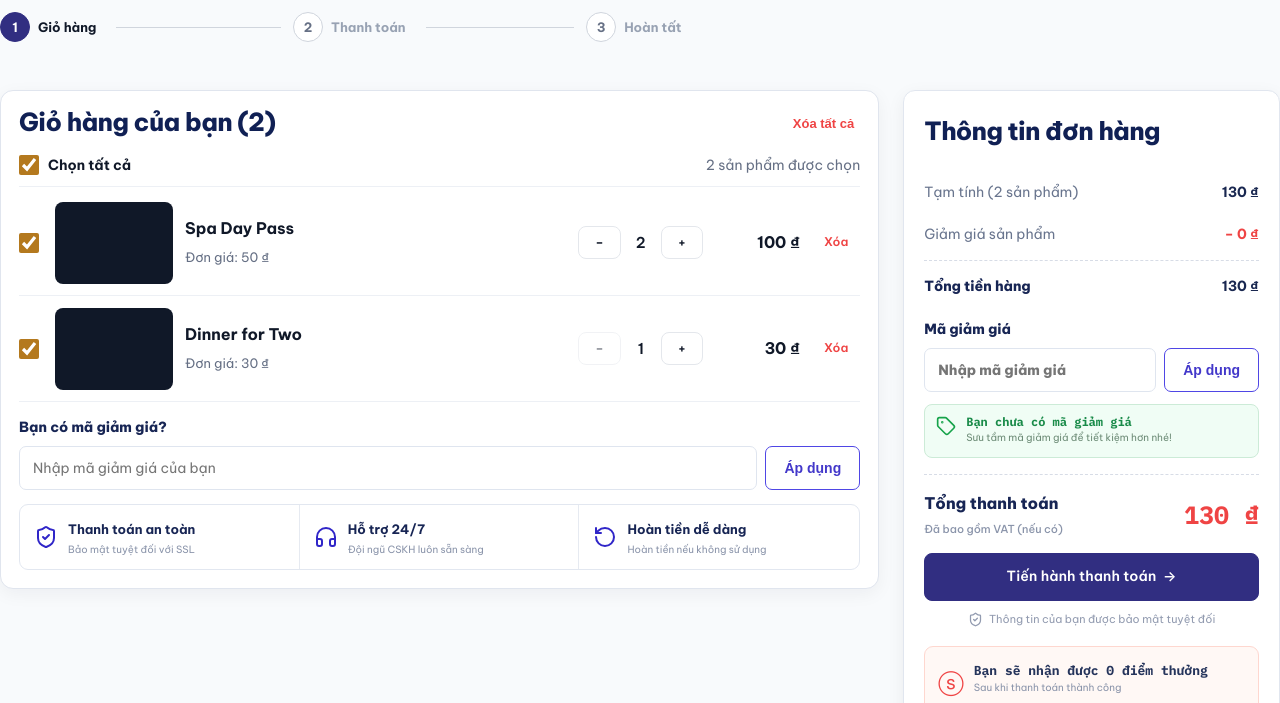
Scenario: CartPage › rolls back and shows an insufficient-stock message when an update is rejected
Expected: the text "Spa Day Pass" is shown, [185,218,294,238]
Click the button named "tăng số lượng spa day pass" at coordinates (682, 242), box [661,226,703,259]
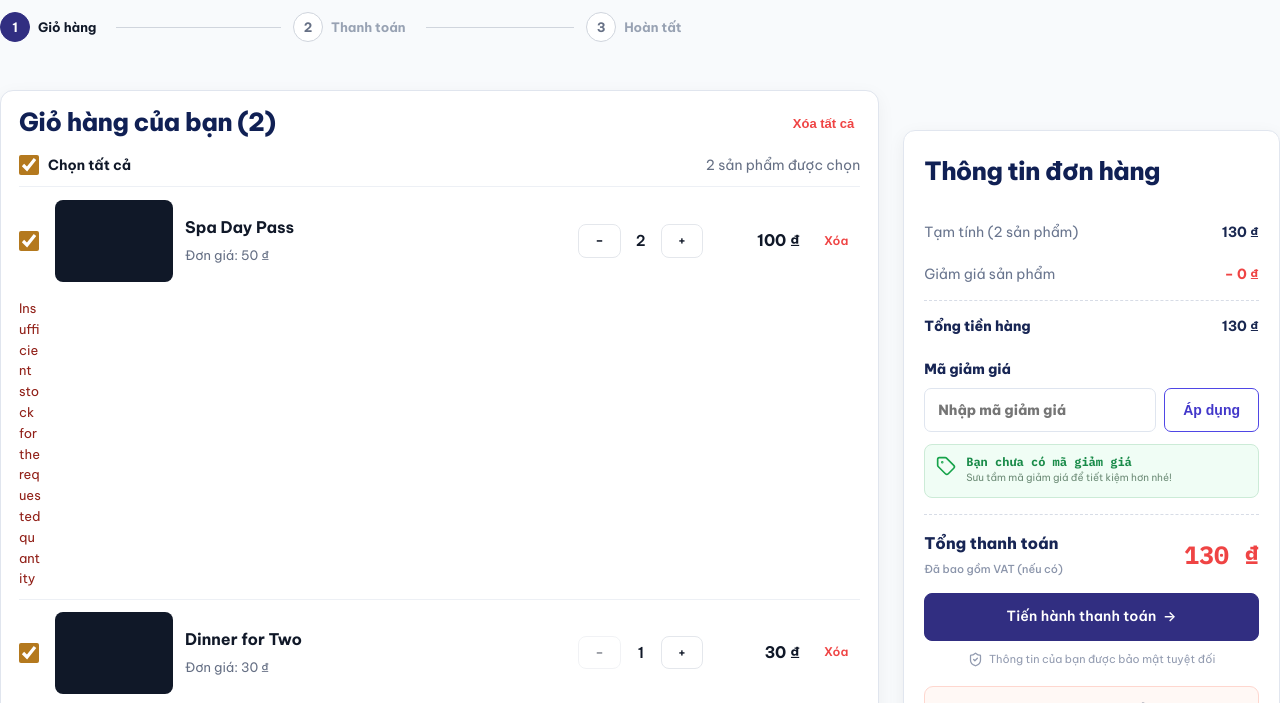
Expected: the text with test id "quantity-ci-1" reads "2", [636,231,646,250]
Now the text "Insufficient stock for the requested quantity" is shown, box [19,298,43,589]
